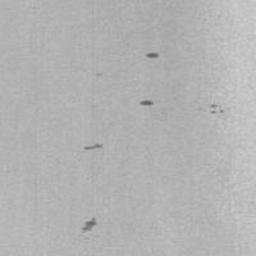Inclusion: (79, 215, 99, 236), (82, 143, 105, 151), (210, 104, 225, 115), (146, 51, 160, 59), (140, 100, 155, 106)
